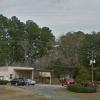Tree: (6, 10, 65, 64)
